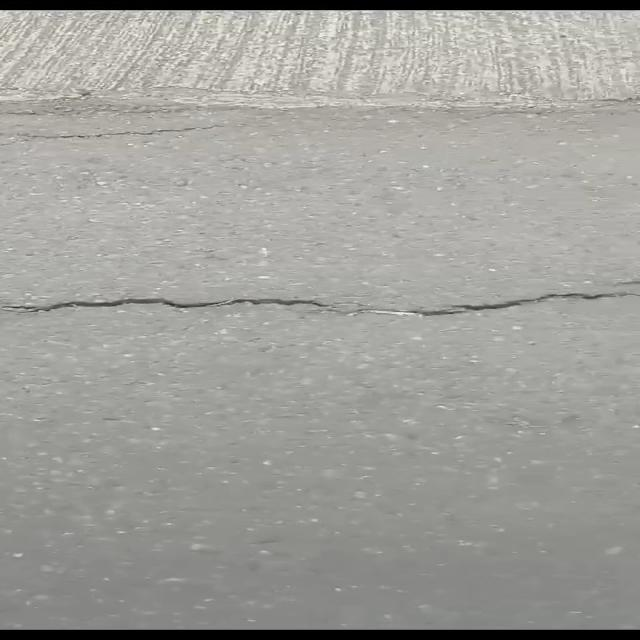Melintang: (0, 273, 640, 338)
